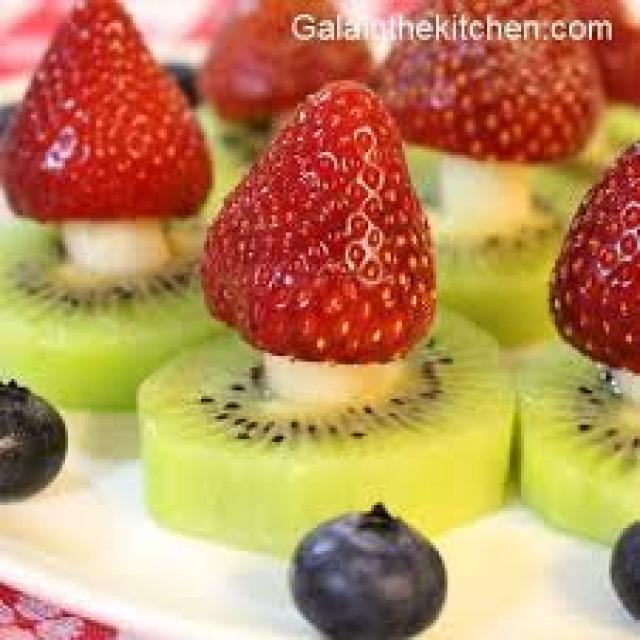strawberry: (212, 82, 438, 351), (6, 0, 221, 215)
